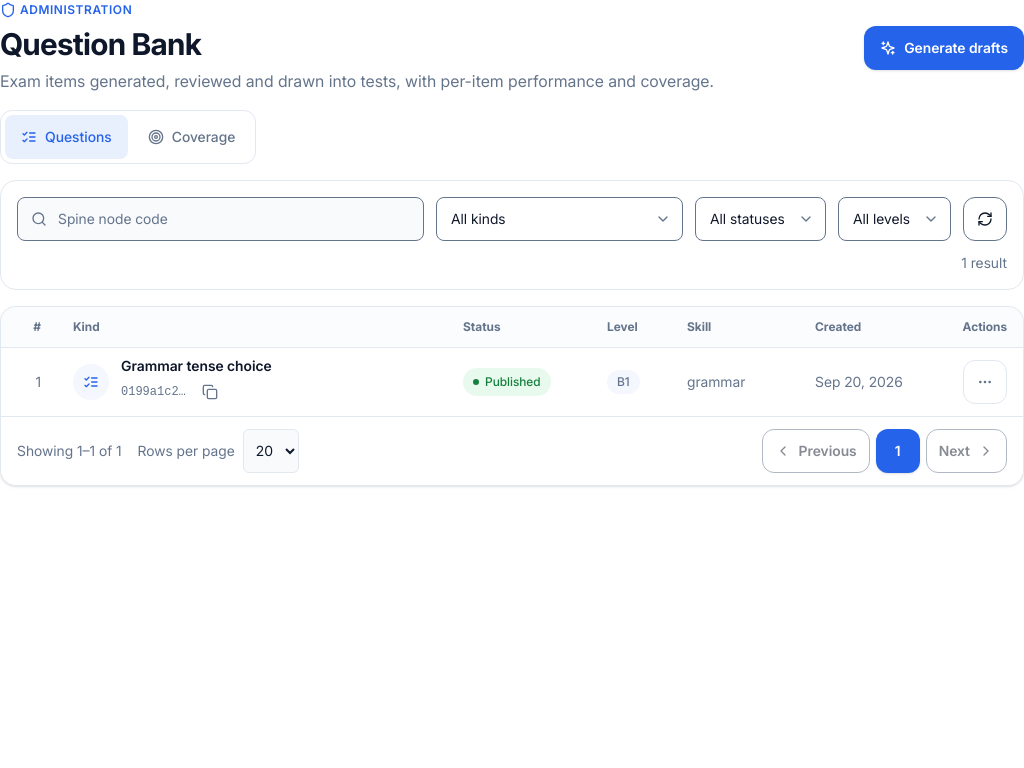
it: AdminQuestionBank › says statistics are not computed yet instead of showing zeros
Click the button named "Actions for Grammar tense choice" at point(985, 382), box [963,360,1007,404]
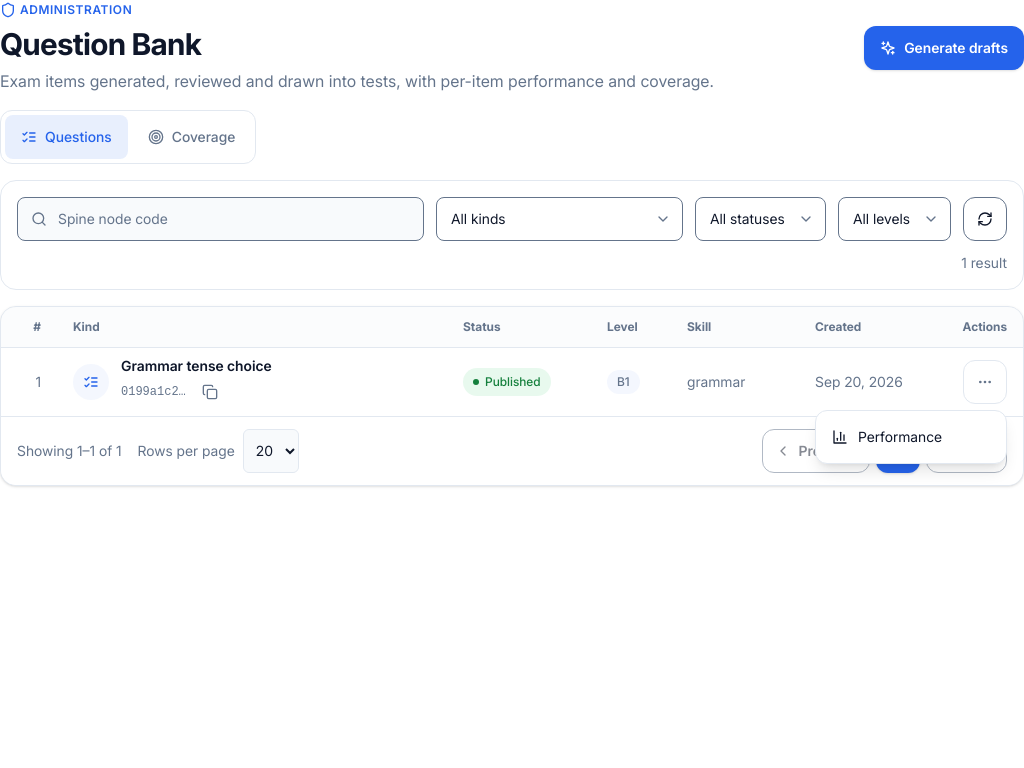
Click the menu item "Performance" at point(887, 436), box [832,428,942,445]
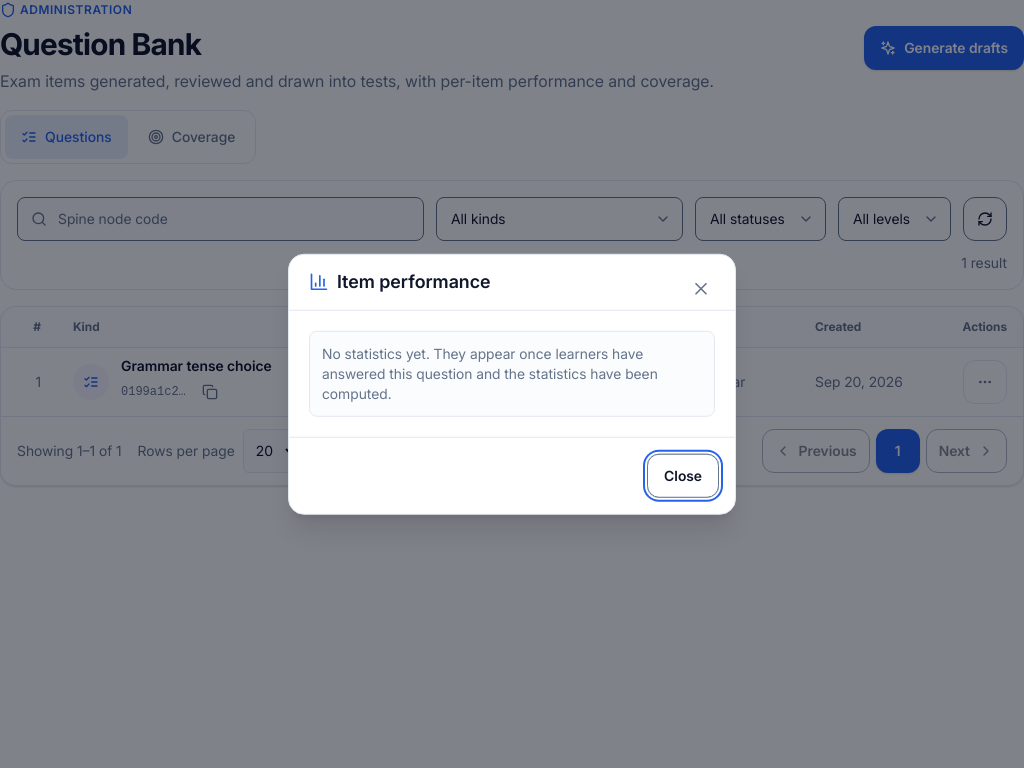
Expected: the text "No statistics yet" is shown, [322,344,658,401]
